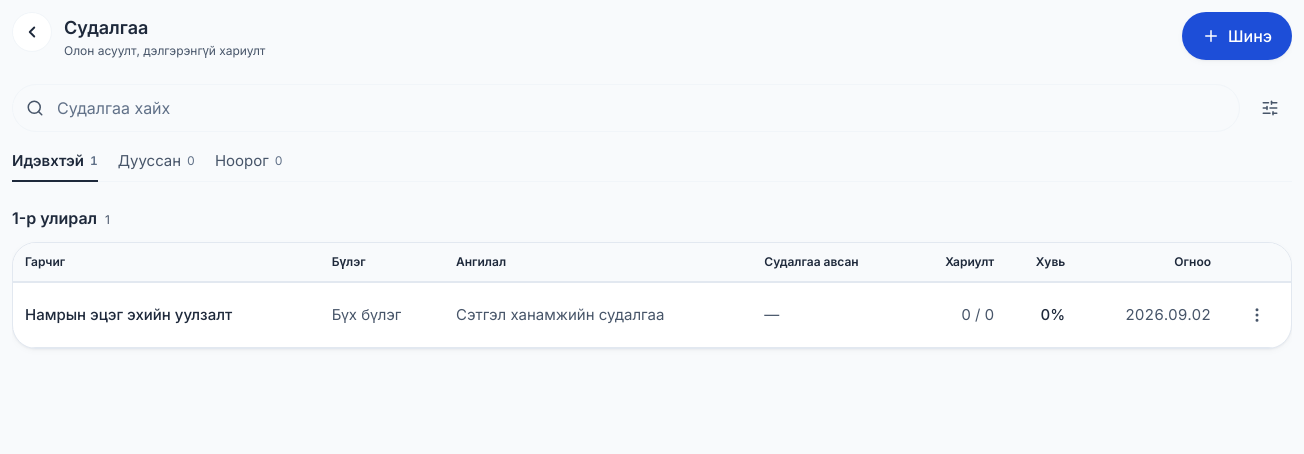
Test: the two boards › separates drafts from what is actually out with families
The image size is (1304, 454).
Check: the link "Намрын эцэг эхийн уулзалт" is shown, box [25, 305, 232, 324]
Click the tab "Ноорог 0".
click(249, 162)  # box [215, 142, 282, 182]
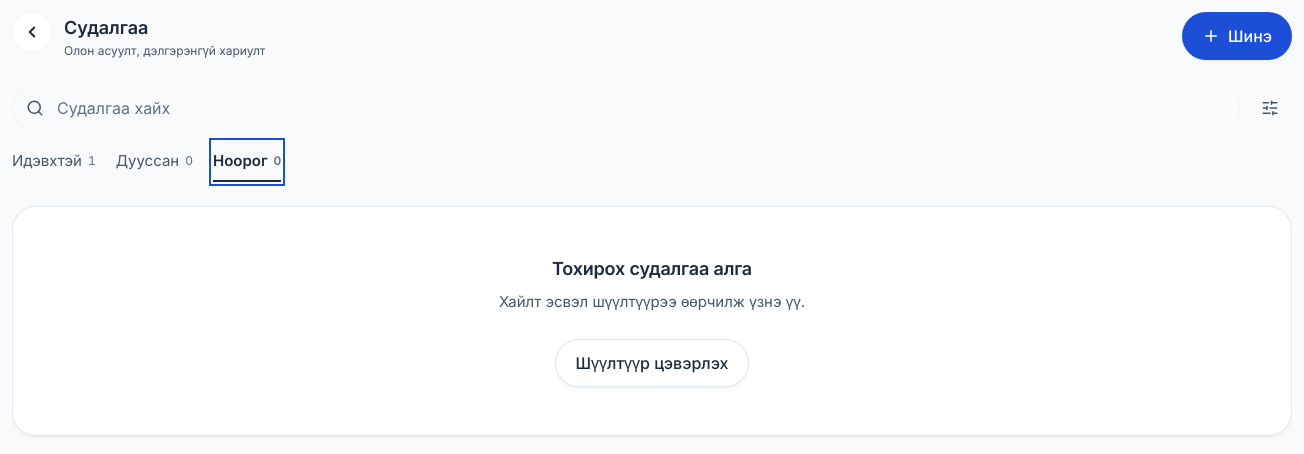
Check: the link "Намрын эцэг эхийн уулзалт" is gone
